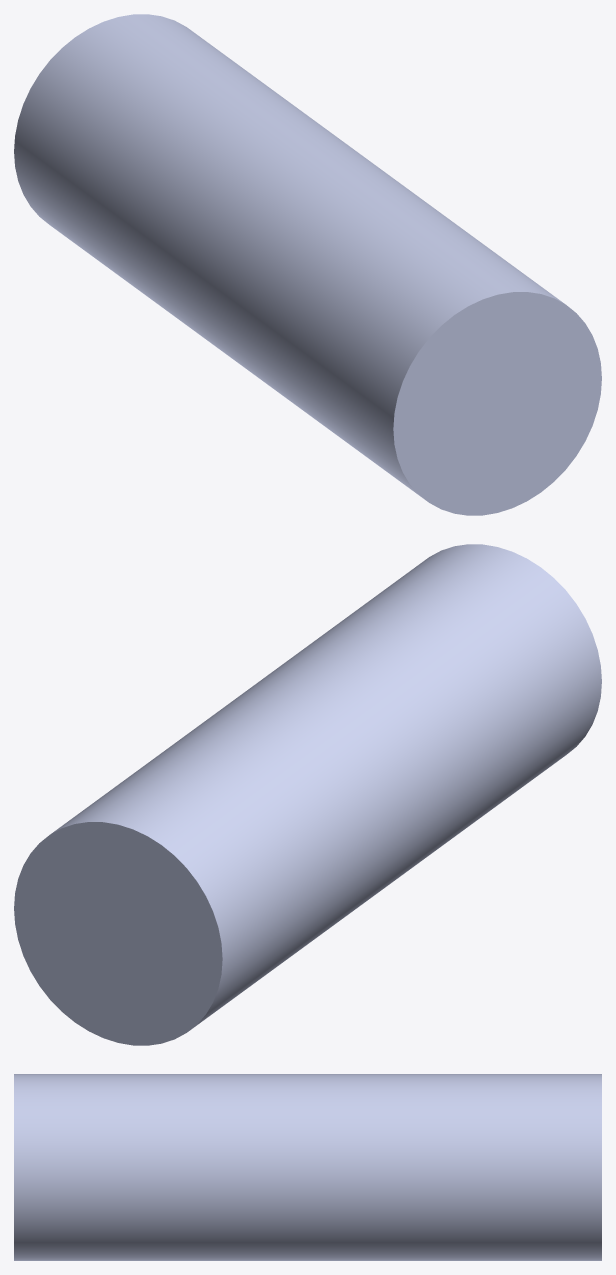
File: Front_Left_Corner_Wheel_Assembly__UA_26_Drive_Lugs_1.dae
3 views of the same model, one above another, from view 1: azimuth 30°, elevation 25°; view 2: azimuth 150°, elevation 25°; view 3: azimuth 270°, elevation 25° (orthographic). The views are drawn at different scales.
Visible parts, largest first — view 1: node0; view 2: node0; view 3: node0.
Part boxes in pixels (x1,y1,x2,y2): node0: (14, 14, 601, 515); node0: (14, 544, 601, 1045); node0: (14, 1074, 601, 1260).
Size of the model in its own units: 0.00953 by 0.00953 by 0.03.
